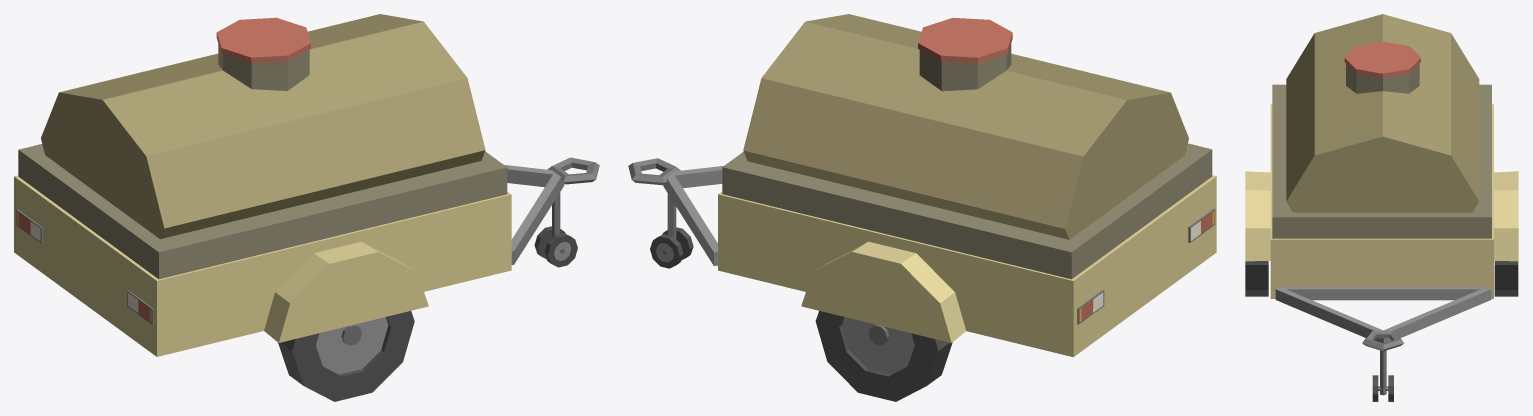
File: kar12.fbx
3 views of the same model, side by side, from view 1: azimuth 30°, elevation 25°; view 2: azimuth 150°, elevation 25°; view 3: azimuth 270°, elevation 25° (orthographic). The views are drawn at different scales.
Parts seen in each view (by area): view 1: Cylinder_1, Cylinder, Cylinder_3; view 2: Cylinder_1, Cylinder_3_2, Cylinder_8; view 3: Cylinder_1, Cylinder_3_2, Cylinder.
Part boxes in pixels (x1=…): Cylinder_1: x1=14, y1=14, x2=599, y2=356; Cylinder: x1=278, y1=311, x2=414, y2=401; Cylinder_3: x1=544, y1=233, x2=577, y2=267; Cylinder_1: x1=628, y1=14, x2=1216, y2=357; Cylinder_3_2: x1=815, y1=311, x2=952, y2=401; Cylinder_8: x1=650, y1=234, x2=683, y2=268; Cylinder_1: x1=1245, y1=14, x2=1518, y2=395; Cylinder_3_2: x1=1494, y1=261, x2=1518, y2=296; Cylinder: x1=1245, y1=261, x2=1268, y2=296.
Size of the model in its own units: 456 by 249 by 267.
